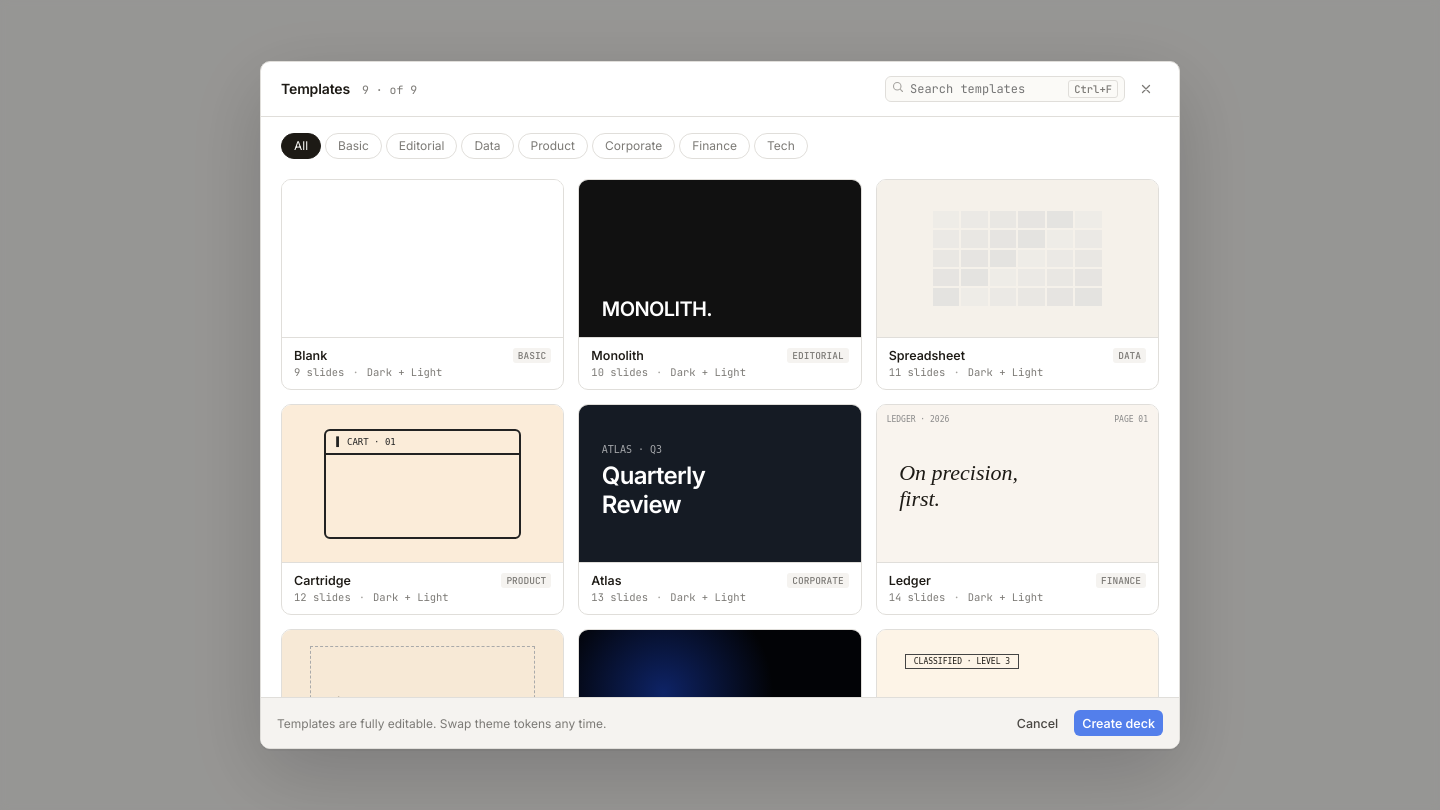
Scenario: TemplatePicker — search › combines the search query with the active category filter
Click the button "Editorial" at [422, 146], box [386, 133, 458, 159]
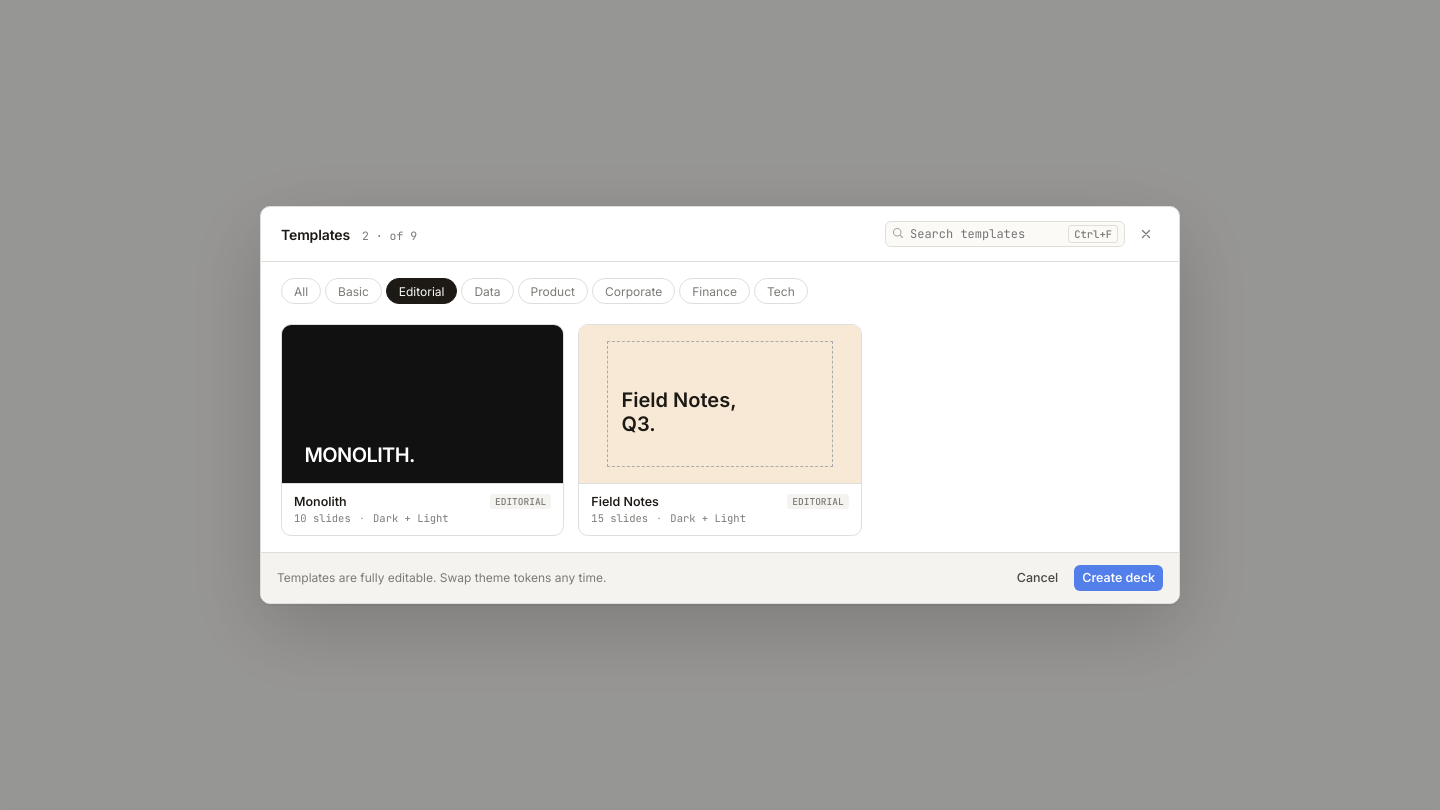
Check: the text "Monolith" is shown, box [294, 494, 347, 509]
Check: the text "Field Notes" is shown, box [591, 494, 659, 509]
Type "field" into the field labelled "Search templates" at [986, 234], box [908, 222, 1064, 246]
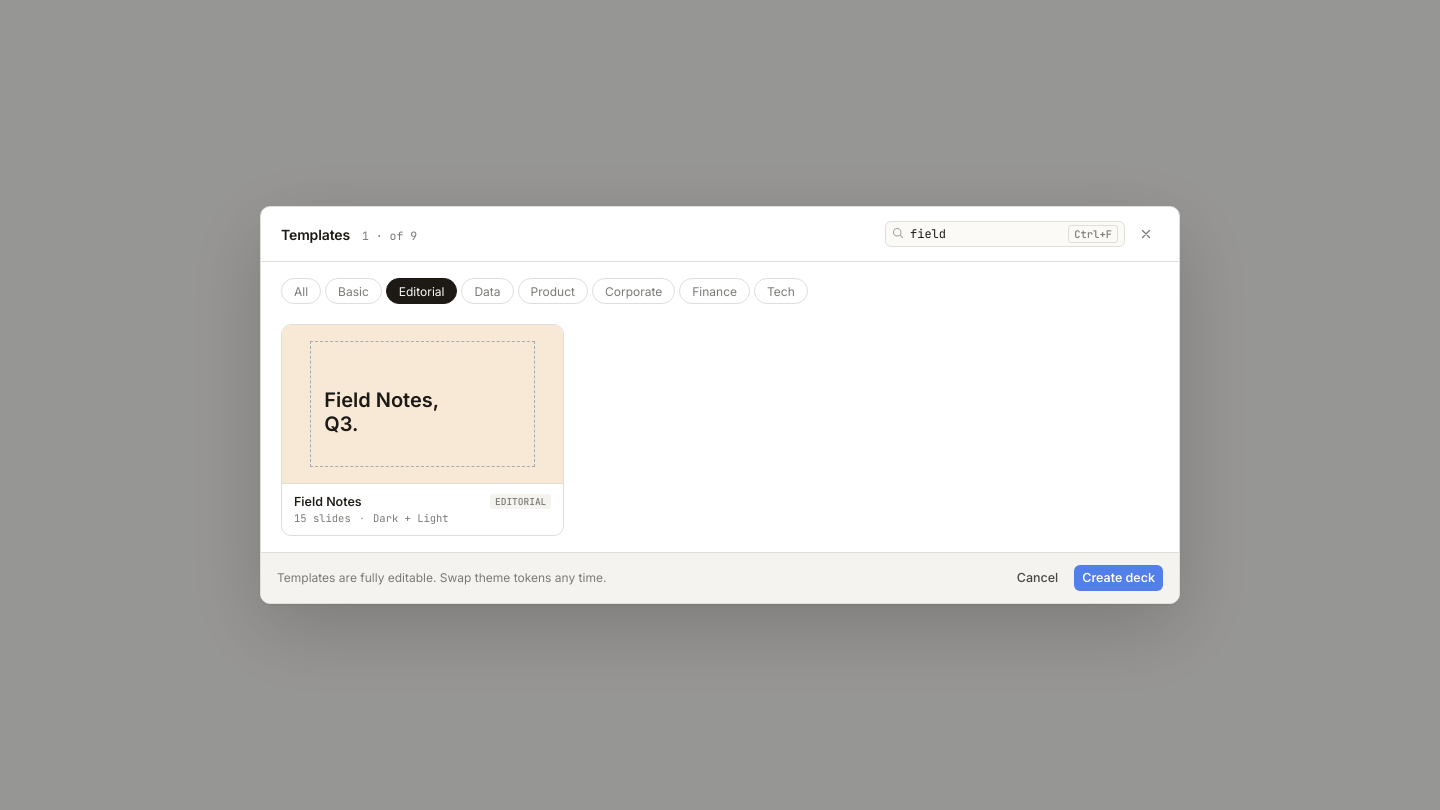
Check: the text "Field Notes" is shown, box [294, 494, 362, 509]
Check: the text "MONOLITH" is gone
